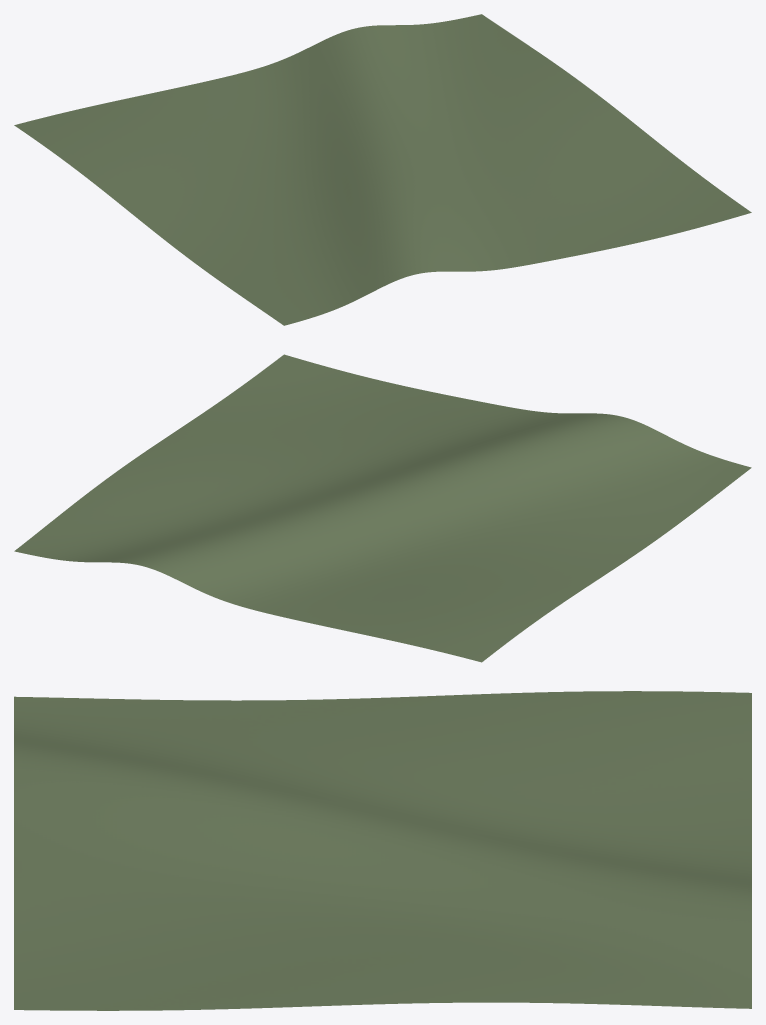
Rendered from sapphire_salt_lagoon.obj.
3 renders of one model, top to bottom at view 1: azimuth 30°, elevation 25°; view 2: azimuth 150°, elevation 25°; view 3: azimuth 270°, elevation 25°, orthographic. The views are drawn at different scales.
Size of the model in its own units: 179 by 9 by 179.
